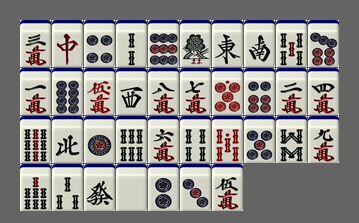0m: (84, 68, 115, 115)
0p: (212, 68, 243, 115)
0s: (212, 116, 243, 163)
1m: (20, 68, 51, 115)
1p: (84, 116, 115, 163)
1s: (180, 20, 211, 67)
1z: (212, 20, 243, 67)
2m: (276, 68, 307, 115)
2p: (148, 164, 179, 211)
2s: (116, 20, 147, 67)
2z: (244, 20, 275, 67)
3m: (20, 20, 51, 67)
3p: (180, 164, 211, 211)
3s: (52, 164, 83, 211)
3z: (116, 68, 147, 115)
4m: (308, 68, 339, 115)
4p: (84, 20, 115, 67)
4s: (180, 116, 211, 163)
4z: (52, 116, 83, 163)
5m: (212, 164, 243, 211)
5p: (244, 116, 275, 163)
5s: (276, 20, 307, 67)
5z: (116, 164, 147, 211)
6m: (148, 116, 179, 163)
6p: (244, 68, 275, 115)
6s: (116, 116, 147, 163)
6z: (84, 164, 115, 211)
7m: (180, 68, 211, 115)
7p: (308, 20, 339, 67)
7s: (20, 164, 51, 211)
7z: (52, 20, 83, 67)
8m: (148, 68, 179, 115)
8p: (52, 68, 83, 115)
8s: (276, 116, 307, 163)
9m: (308, 116, 339, 163)
9p: (148, 20, 179, 67)
9s: (20, 116, 51, 163)
